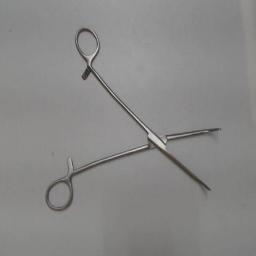Lahey Forceps: (43, 22, 225, 214)
